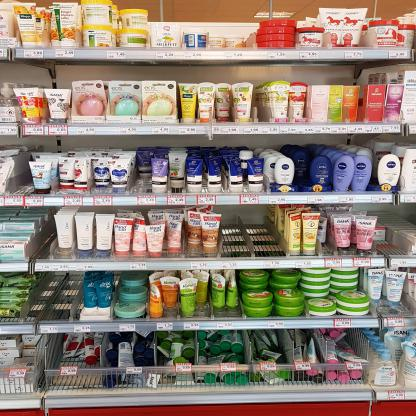Void: (223, 207, 271, 254), (34, 272, 72, 319), (48, 359, 99, 387), (213, 12, 249, 35), (37, 217, 54, 258), (137, 162, 153, 192), (374, 241, 405, 255), (16, 160, 29, 189)
